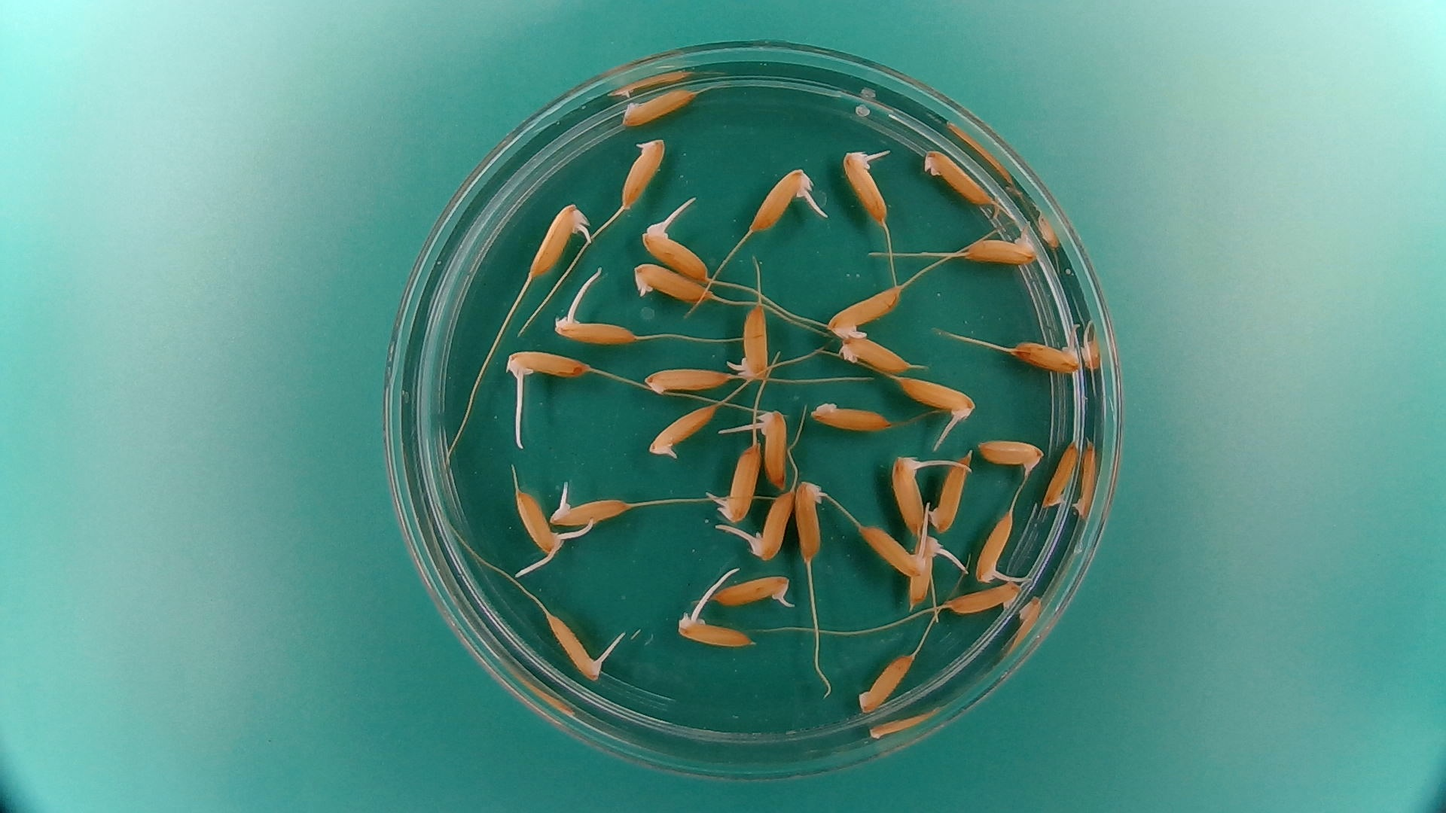no: (919, 146, 995, 206), (856, 651, 915, 717), (928, 452, 973, 534), (618, 85, 699, 129), (837, 333, 916, 374), (642, 361, 731, 397), (809, 396, 895, 433), (1040, 437, 1081, 510), (944, 580, 1021, 617)
yes: (528, 198, 594, 279), (892, 373, 978, 430), (746, 167, 809, 239), (645, 400, 719, 461), (838, 145, 892, 227), (513, 486, 569, 565), (829, 282, 907, 338), (637, 222, 710, 280), (630, 259, 718, 306), (714, 440, 762, 524), (544, 613, 602, 682), (618, 134, 668, 213), (502, 346, 591, 390), (552, 301, 639, 346), (743, 487, 795, 561), (855, 522, 925, 576), (750, 404, 793, 489), (1008, 330, 1086, 375), (711, 571, 796, 610), (974, 435, 1046, 481), (728, 302, 771, 379), (972, 507, 1015, 582), (548, 488, 632, 526), (892, 451, 930, 534), (963, 225, 1039, 266), (794, 478, 832, 560), (908, 531, 943, 611), (681, 615, 758, 648)
